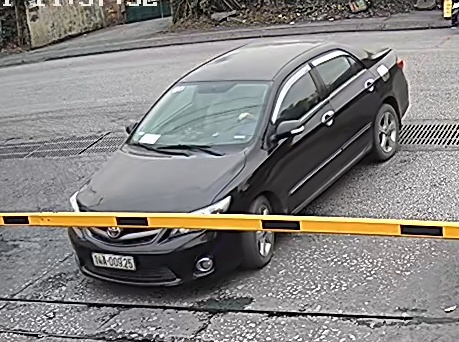vehicle plate: (87, 249, 137, 276)
